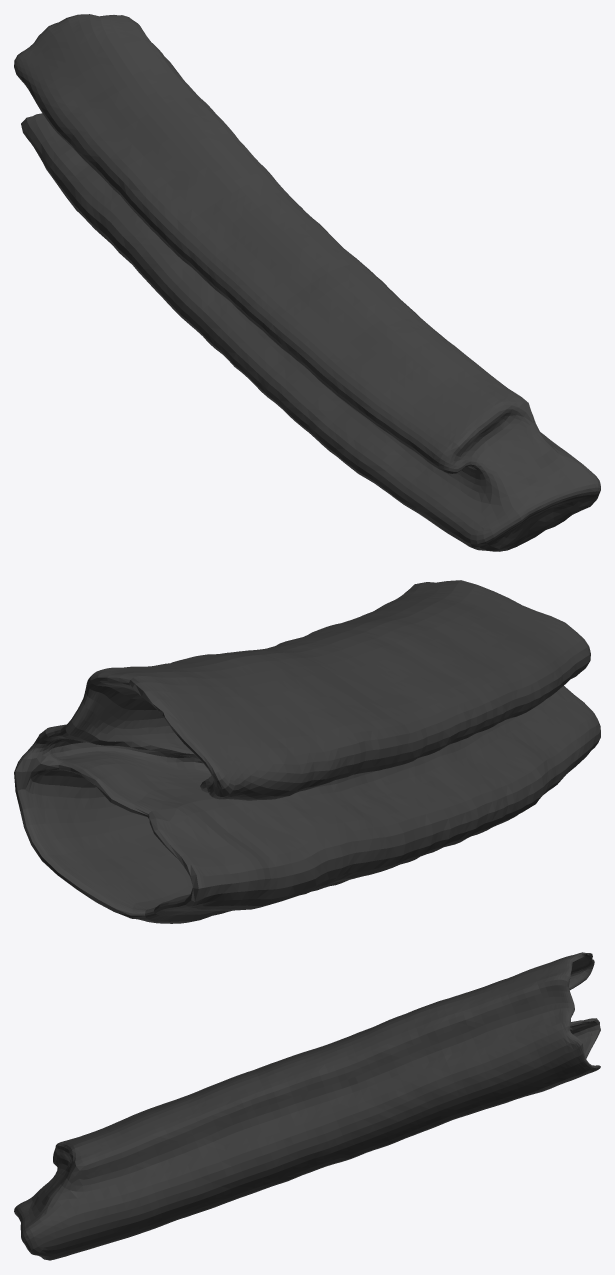
The model's file is tooth_rabbit_409_low.glb.
3 renders of one model, top to bottom at view 1: azimuth 30°, elevation 25°; view 2: azimuth 150°, elevation 25°; view 3: azimuth 270°, elevation 25°, orthographic. The views are drawn at different scales.
Parts seen in each view (by area): view 1: tooth_rabbit_409_low; view 2: tooth_rabbit_409_low; view 3: tooth_rabbit_409_low.
Part boxes in pixels (x1,y1,x2,y2): tooth_rabbit_409_low: [14, 14, 600, 551]; tooth_rabbit_409_low: [14, 580, 600, 923]; tooth_rabbit_409_low: [14, 952, 600, 1260].
Bounding box in the file's own units: 0.5577 × 0.7034 × 1.44.
1 material, 1 textured.
